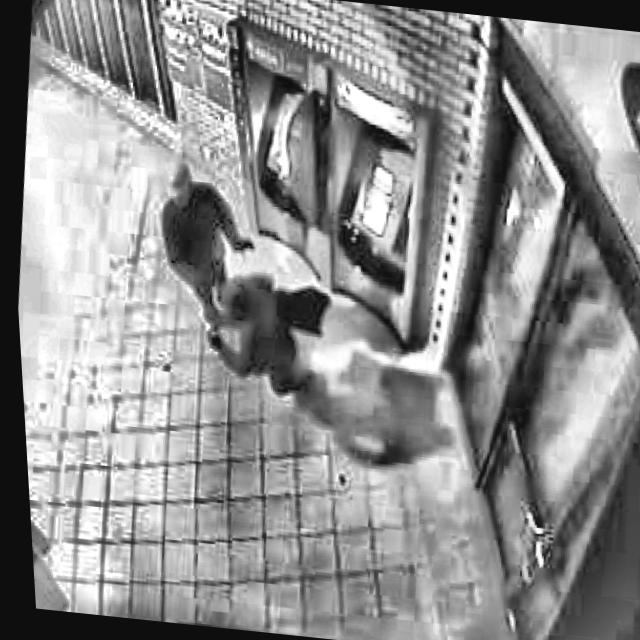burglary: (128, 63, 434, 416)
